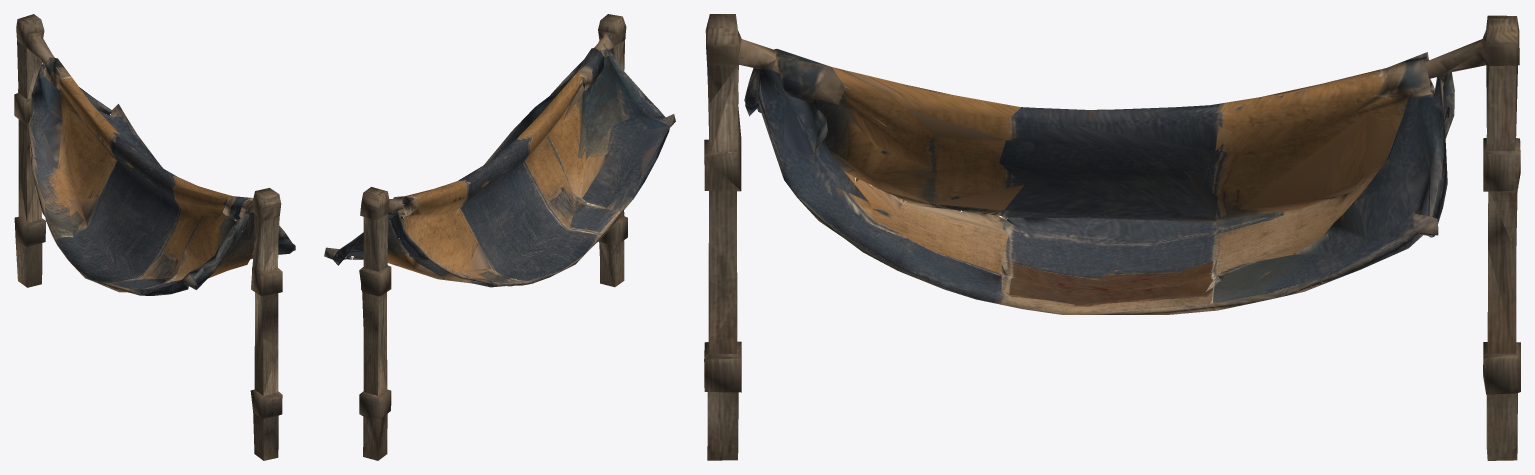
Rendered from cai_awning_patchwork.glb.
3 renders of one model, left to right at view 1: azimuth 30°, elevation 25°; view 2: azimuth 150°, elevation 25°; view 3: azimuth 270°, elevation 25°, orthographic. The views are drawn at different scales.
Visible parts, largest first — view 1: prop; view 2: prop; view 3: prop.
Part boxes in pixels (x1,y1,x2,y2): prop: (14,14,295,460); prop: (324,14,675,460); prop: (704,14,1520,460).
Bounding box in the file's own units: 2.09 × 3.53 × 6.
Materials: 1 (1 with a texture image).
